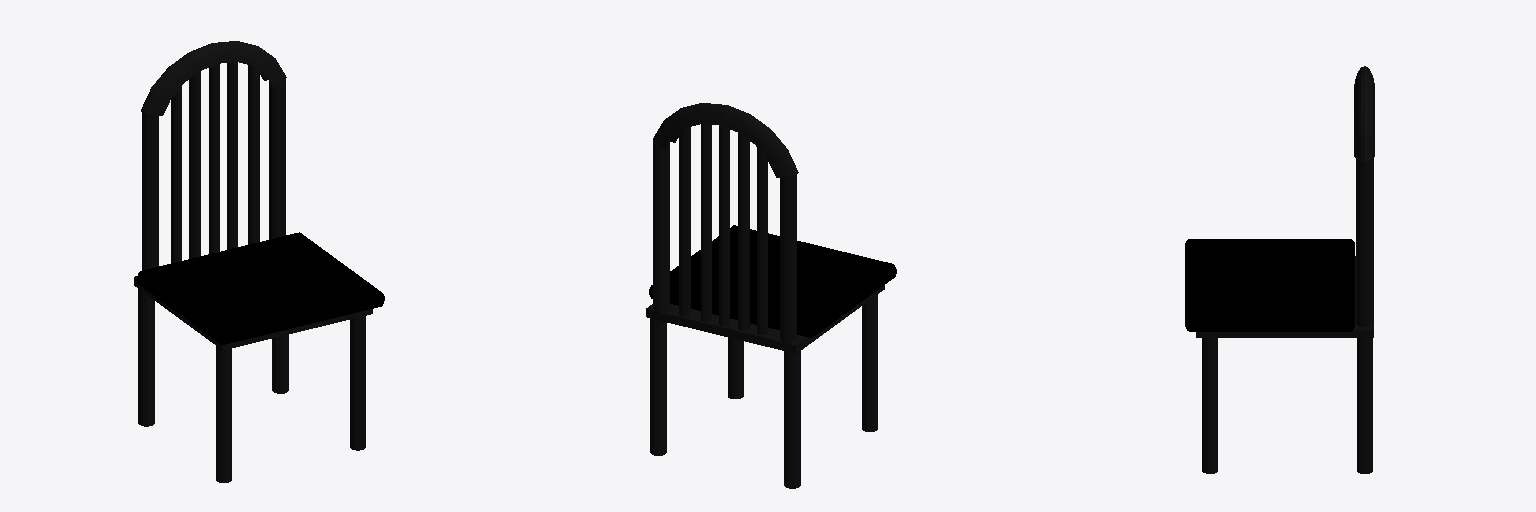
The picture shows the model from 3 angles: view 1: azimuth 30°, elevation 25°; view 2: azimuth 150°, elevation 25°; view 3: azimuth 270°, elevation 25°; orthographic projection.
Visible parts, largest first — view 1: pasted__pCylinder1; view 2: pasted__pCylinder1; view 3: pasted__pCylinder1.
Part boxes in pixels (left/top/right/bottom): pasted__pCylinder1: left=134, top=41, right=384, bottom=482; pasted__pCylinder1: left=646, top=103, right=896, bottom=488; pasted__pCylinder1: left=1185, top=66, right=1374, bottom=473.
Size of the model in its own units: 2.47 by 5.19 by 2.45.
2 materials, 1 textured.